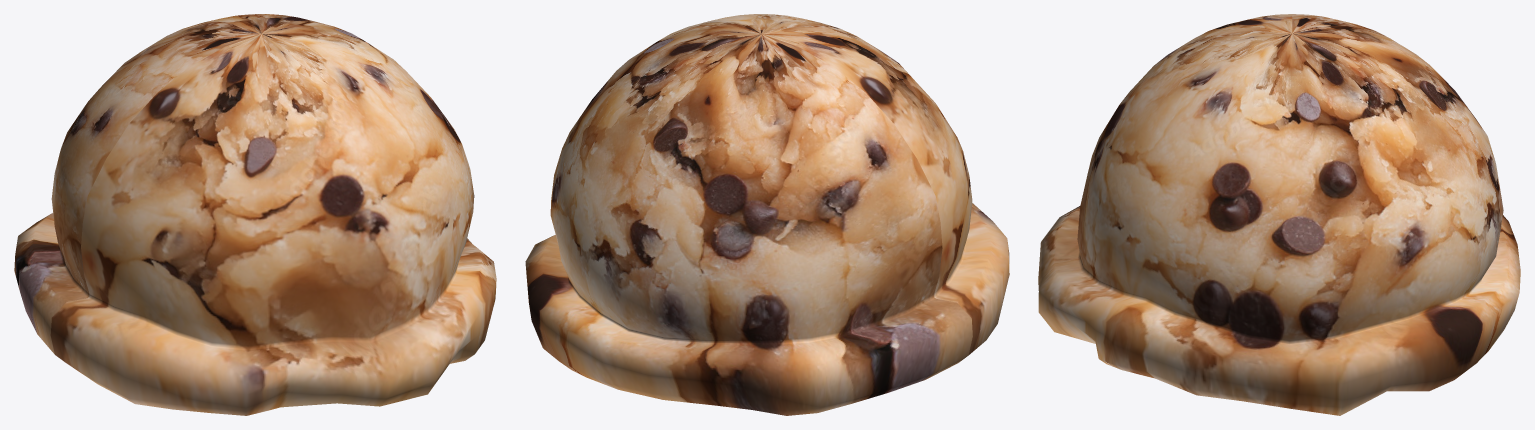
Rendered from scoop-cookies.gltf.
The picture shows the model from 3 angles, left to right: view 1: azimuth 30°, elevation 25°; view 2: azimuth 150°, elevation 25°; view 3: azimuth 270°, elevation 25°; orthographic projection. The views are drawn at different scales.
Parts seen in each view (by area): view 1: Scoop; view 2: Scoop; view 3: Scoop.
Boxes of the visible parts, box(x1,y1,x2,y2) form: Scoop: box(14, 14, 496, 415); Scoop: box(525, 14, 1009, 415); Scoop: box(1038, 14, 1520, 415).
Size of the model in its own units: 1.33 by 0.9831 by 1.38.
Materials: 1 (1 with a texture image).
